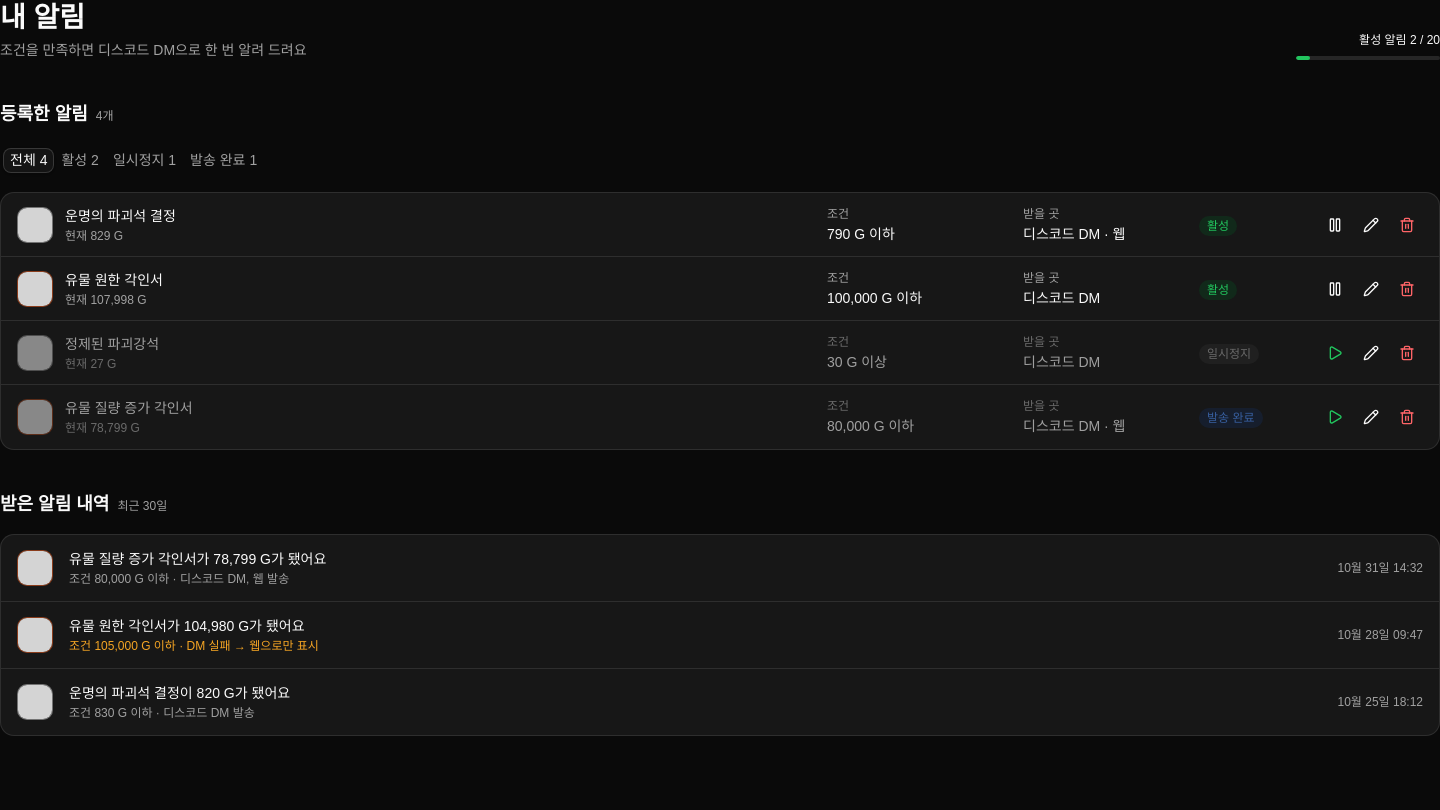
Test: 내 알림 화면 › 확인을 거쳐 삭제한다
This screenshot has width=1440, height=810.
Click the button named "삭제: 운명의 파괴석 결정 · 790 G 이하": (1407, 224) [1391, 208, 1423, 240]
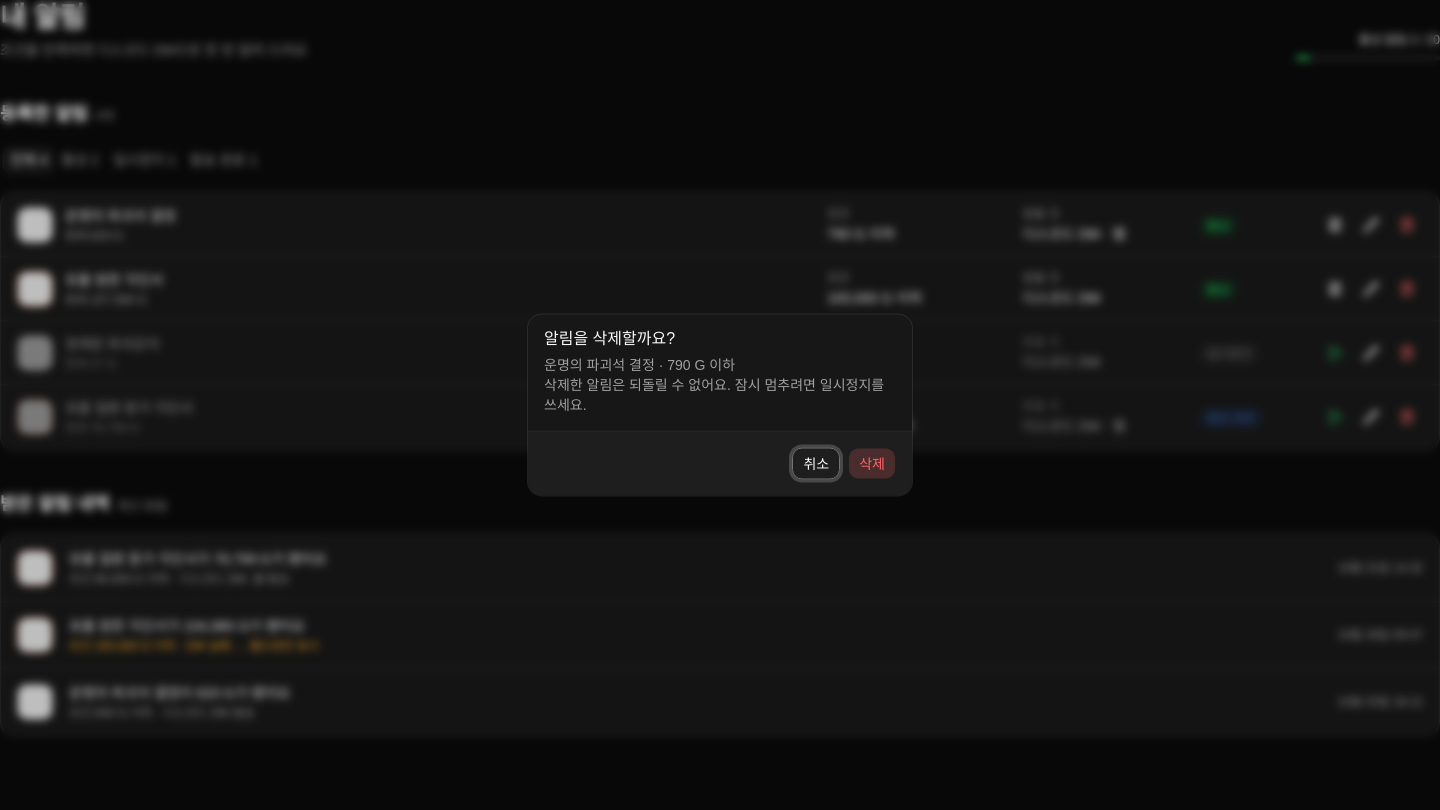
Click the button "삭제": (872, 464) [848, 448, 896, 480]
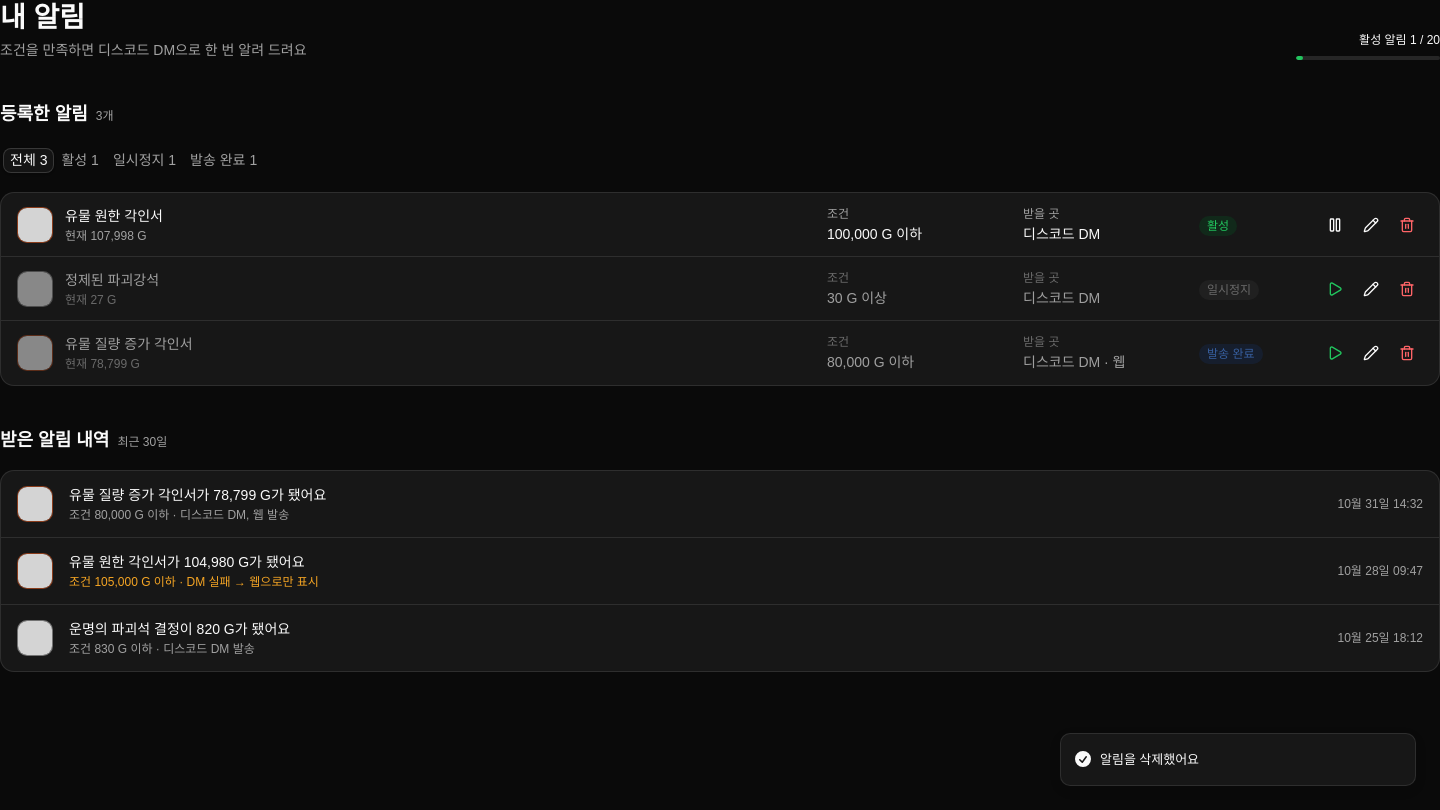
Result: the text "알림을 삭제했어요" is shown at [1100, 750, 1199, 769]
